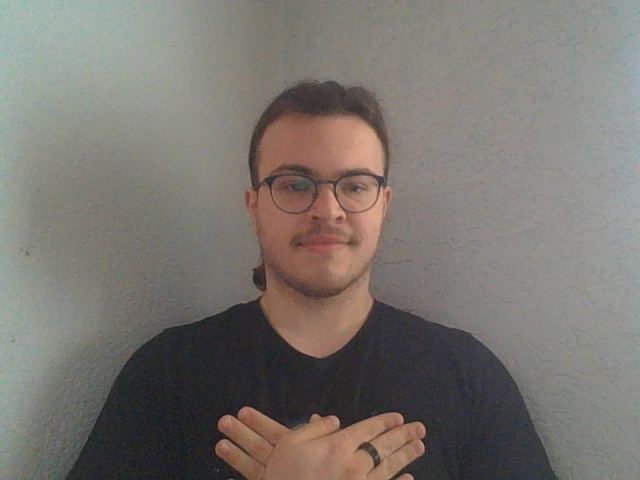Love: (211, 403, 430, 480)
